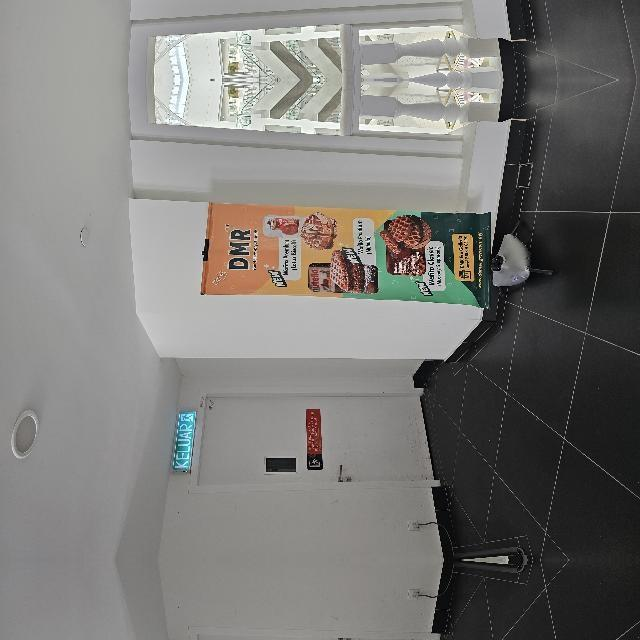door: (72, 274, 168, 518), (72, 602, 168, 640)
obstacle: (250, 278, 358, 616), (250, 503, 358, 640)
